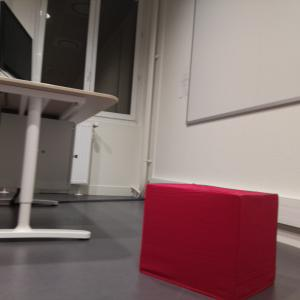medium: (135, 180, 281, 300)
